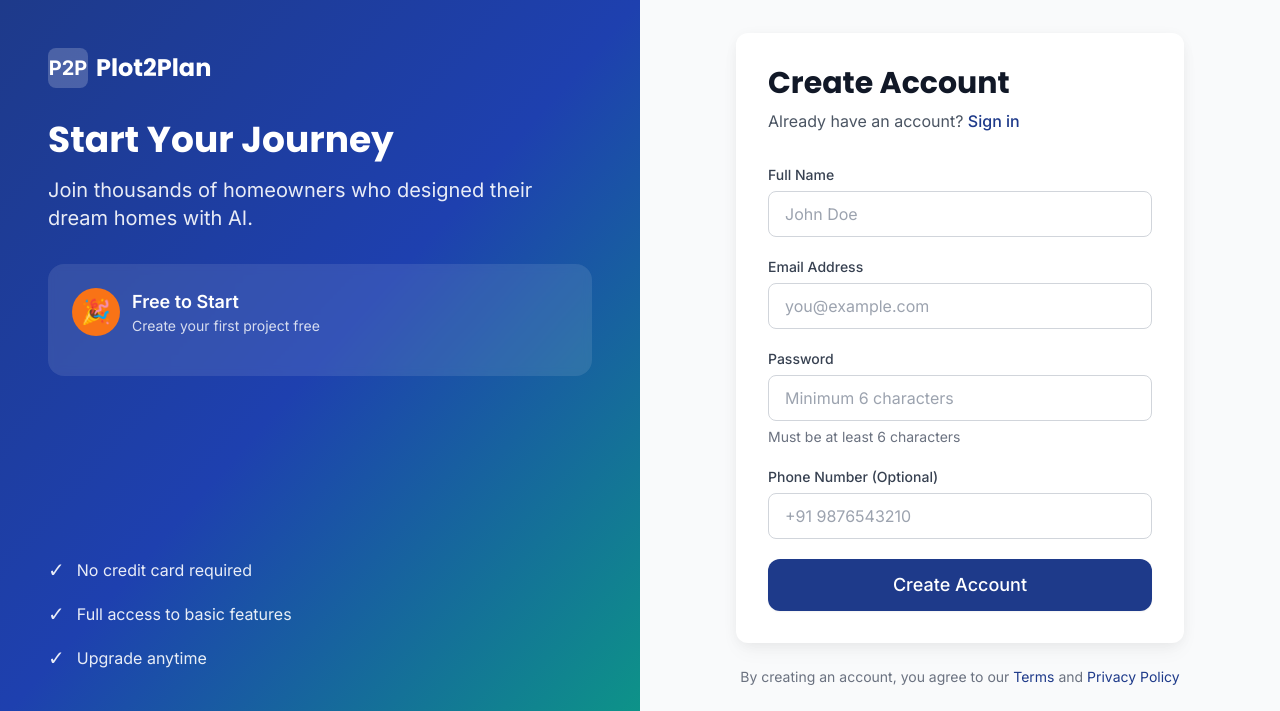
Test: Authentication Flow Tests › Registration Page › should handle registration error
In the field named "name": (960, 214) [768,191,1152,237], type "Test User"
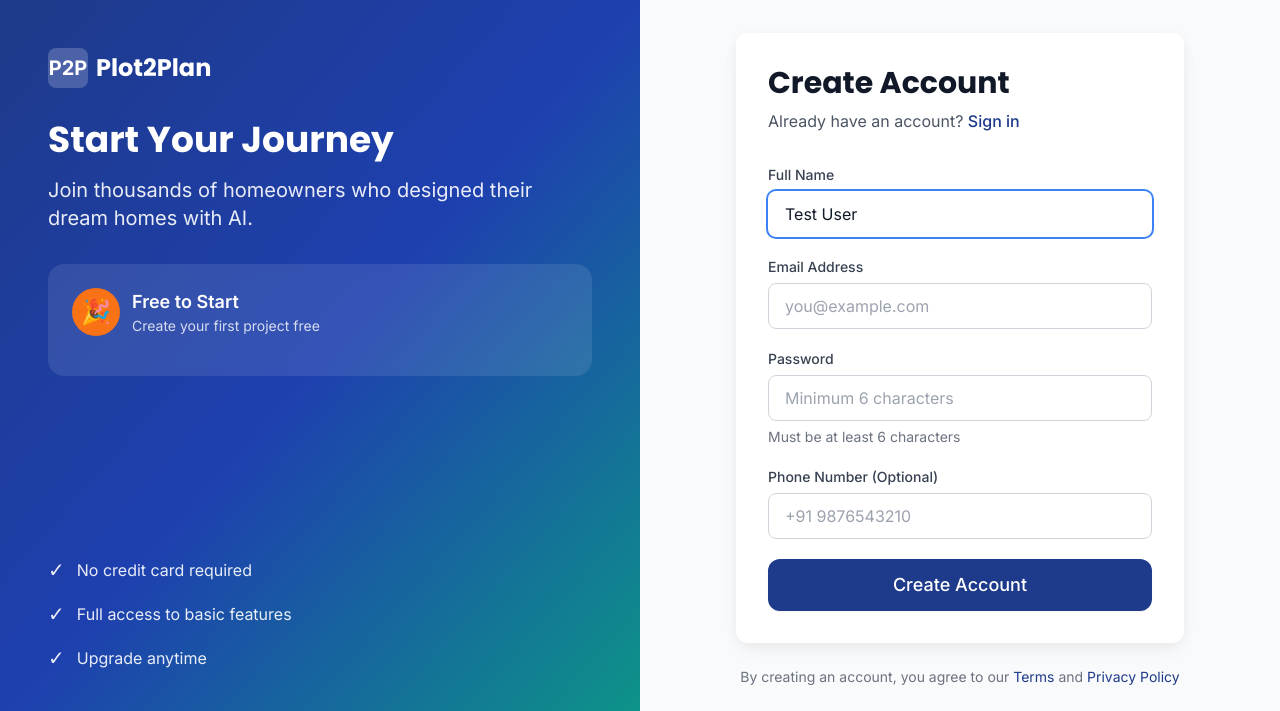
In the field named "email": (960, 306) [768,283,1152,329], type "test@plot2plan.com"
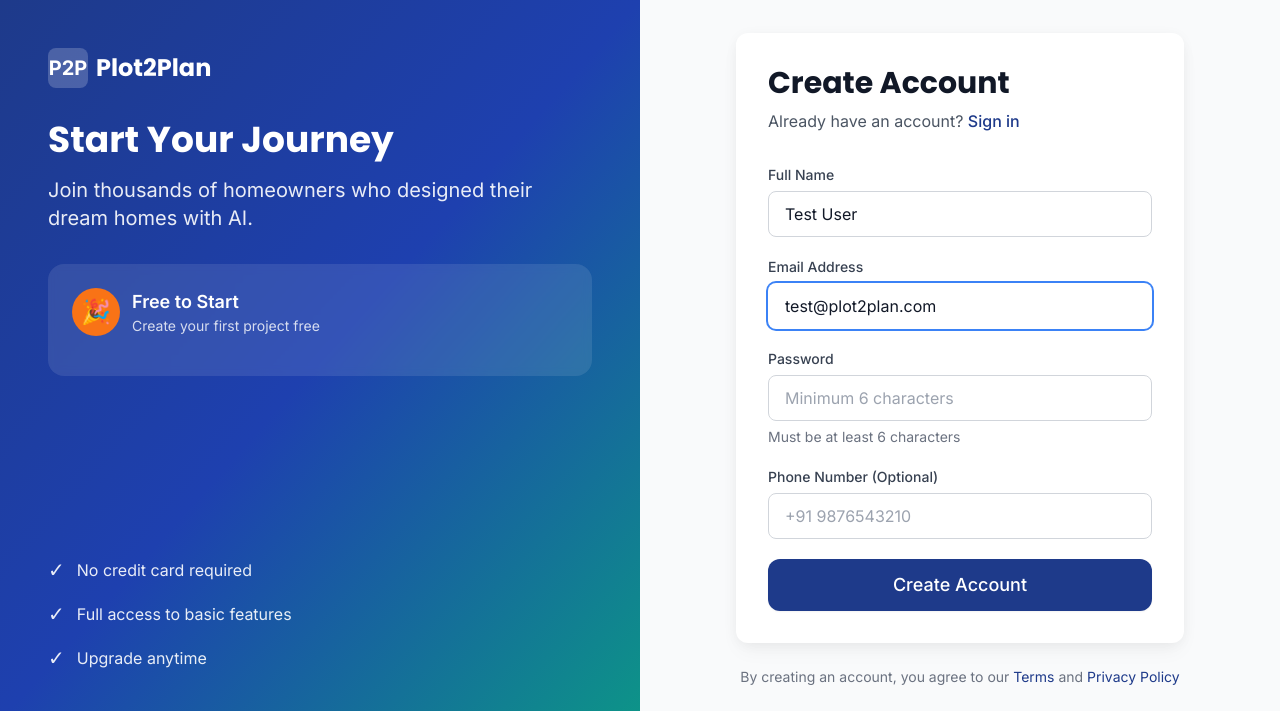
In the password field named "password": (960, 398) [768,375,1152,421], type "Test123!@#"
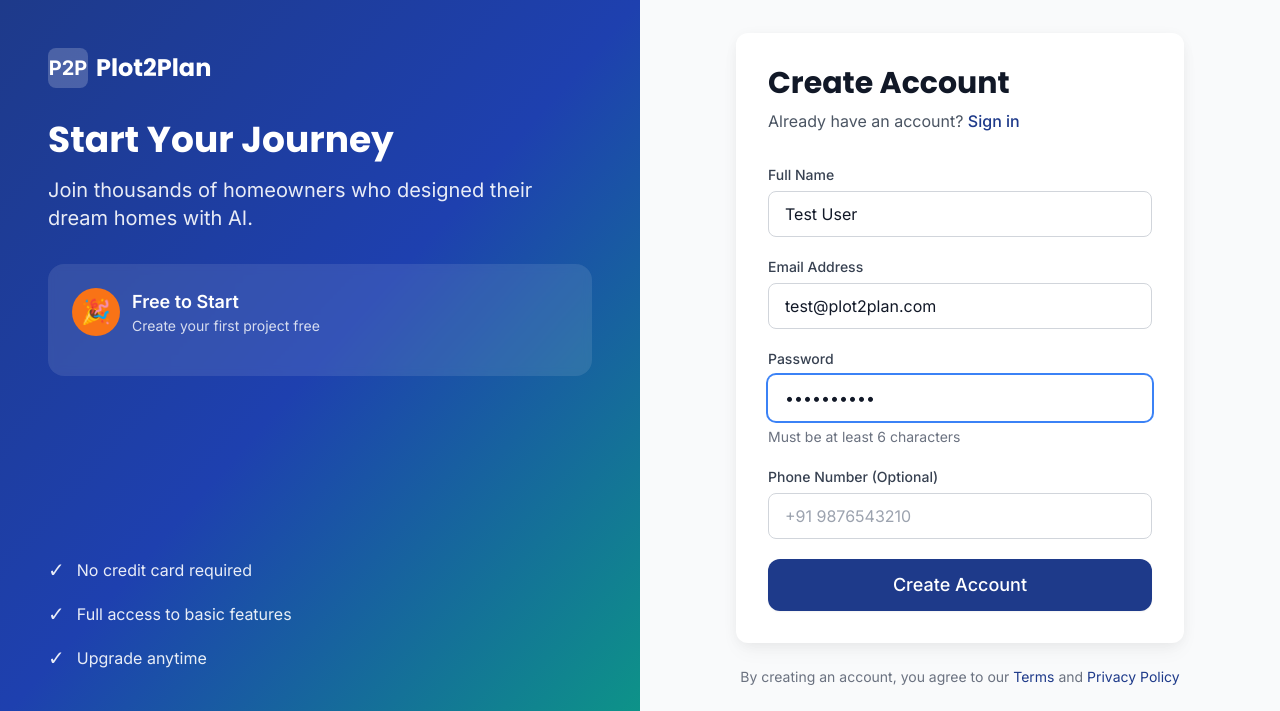
Click the submit button: (960, 585) [768,559,1152,611]
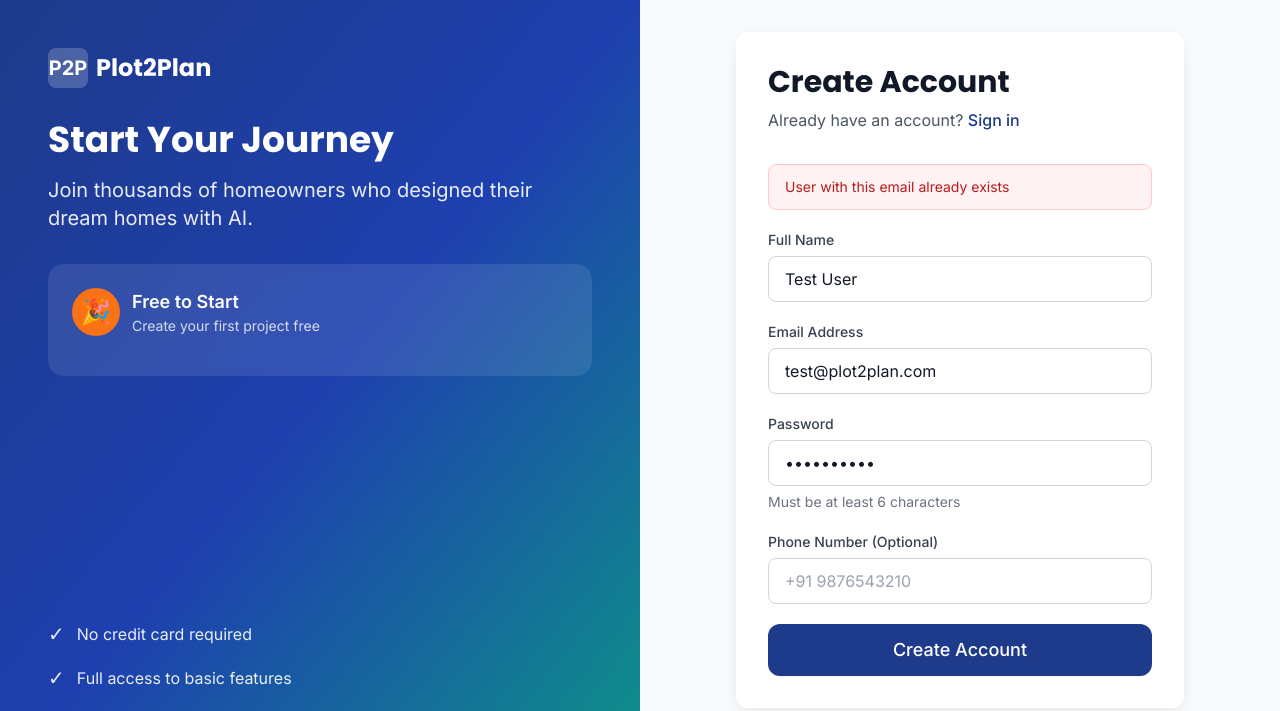
Expected: the text "User with this email already exists" is shown, [768,164,1152,210]
